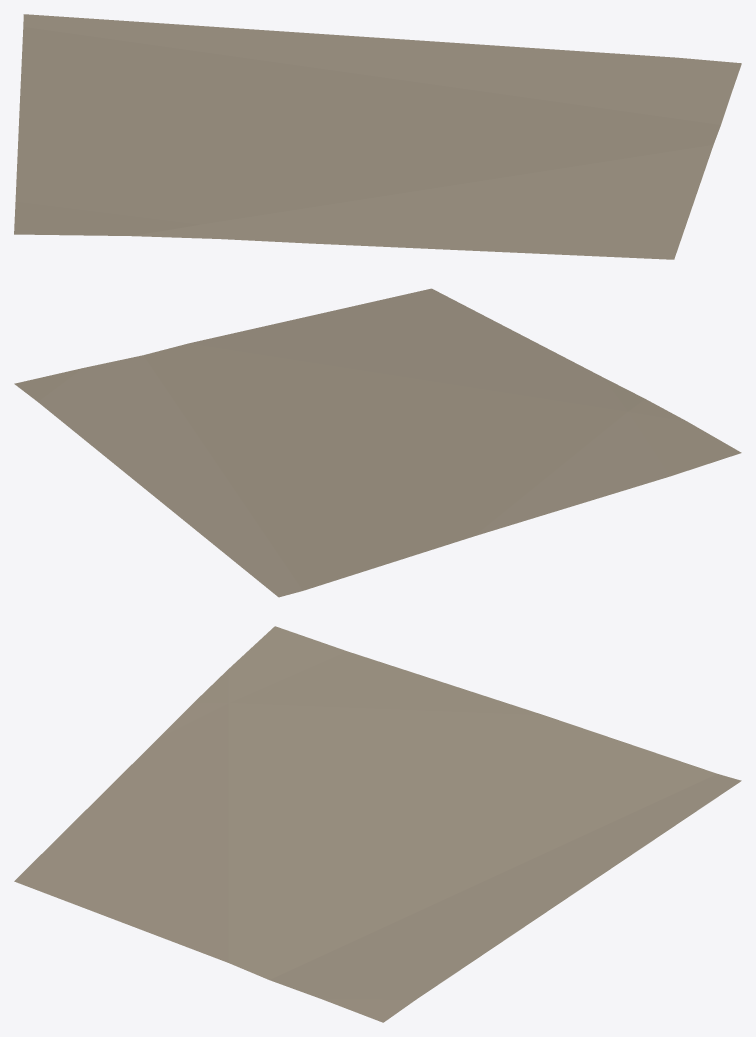
File: farm_4_19_soil.glb
3 views of the same model, one above another, from view 1: azimuth 30°, elevation 25°; view 2: azimuth 150°, elevation 25°; view 3: azimuth 270°, elevation 25° (orthographic). The views are drawn at different scales.
Visible parts, largest first — view 1: geometry_0; view 2: geometry_0; view 3: geometry_0.
Boxes of the visible parts, x1,y1,x2,y2 form: geometry_0: (14, 14, 741, 259); geometry_0: (14, 288, 741, 597); geometry_0: (14, 626, 741, 1022).
Bounding box in the file's own units: 108 × 8.72 × 98.38.
